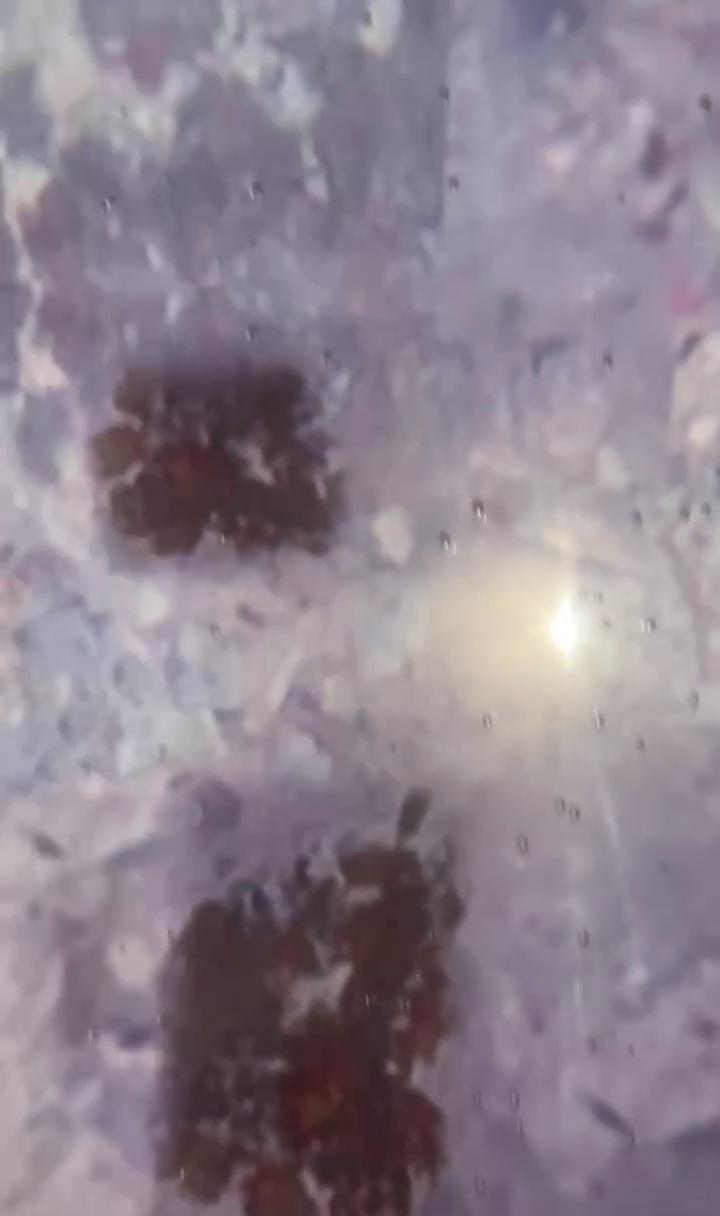Corrosion: (148, 780, 469, 1216), (81, 357, 349, 557)
